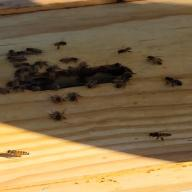Bee: (142, 130, 176, 144), (45, 110, 77, 122), (63, 90, 85, 104), (2, 149, 31, 159), (142, 51, 162, 64), (4, 47, 22, 57)
